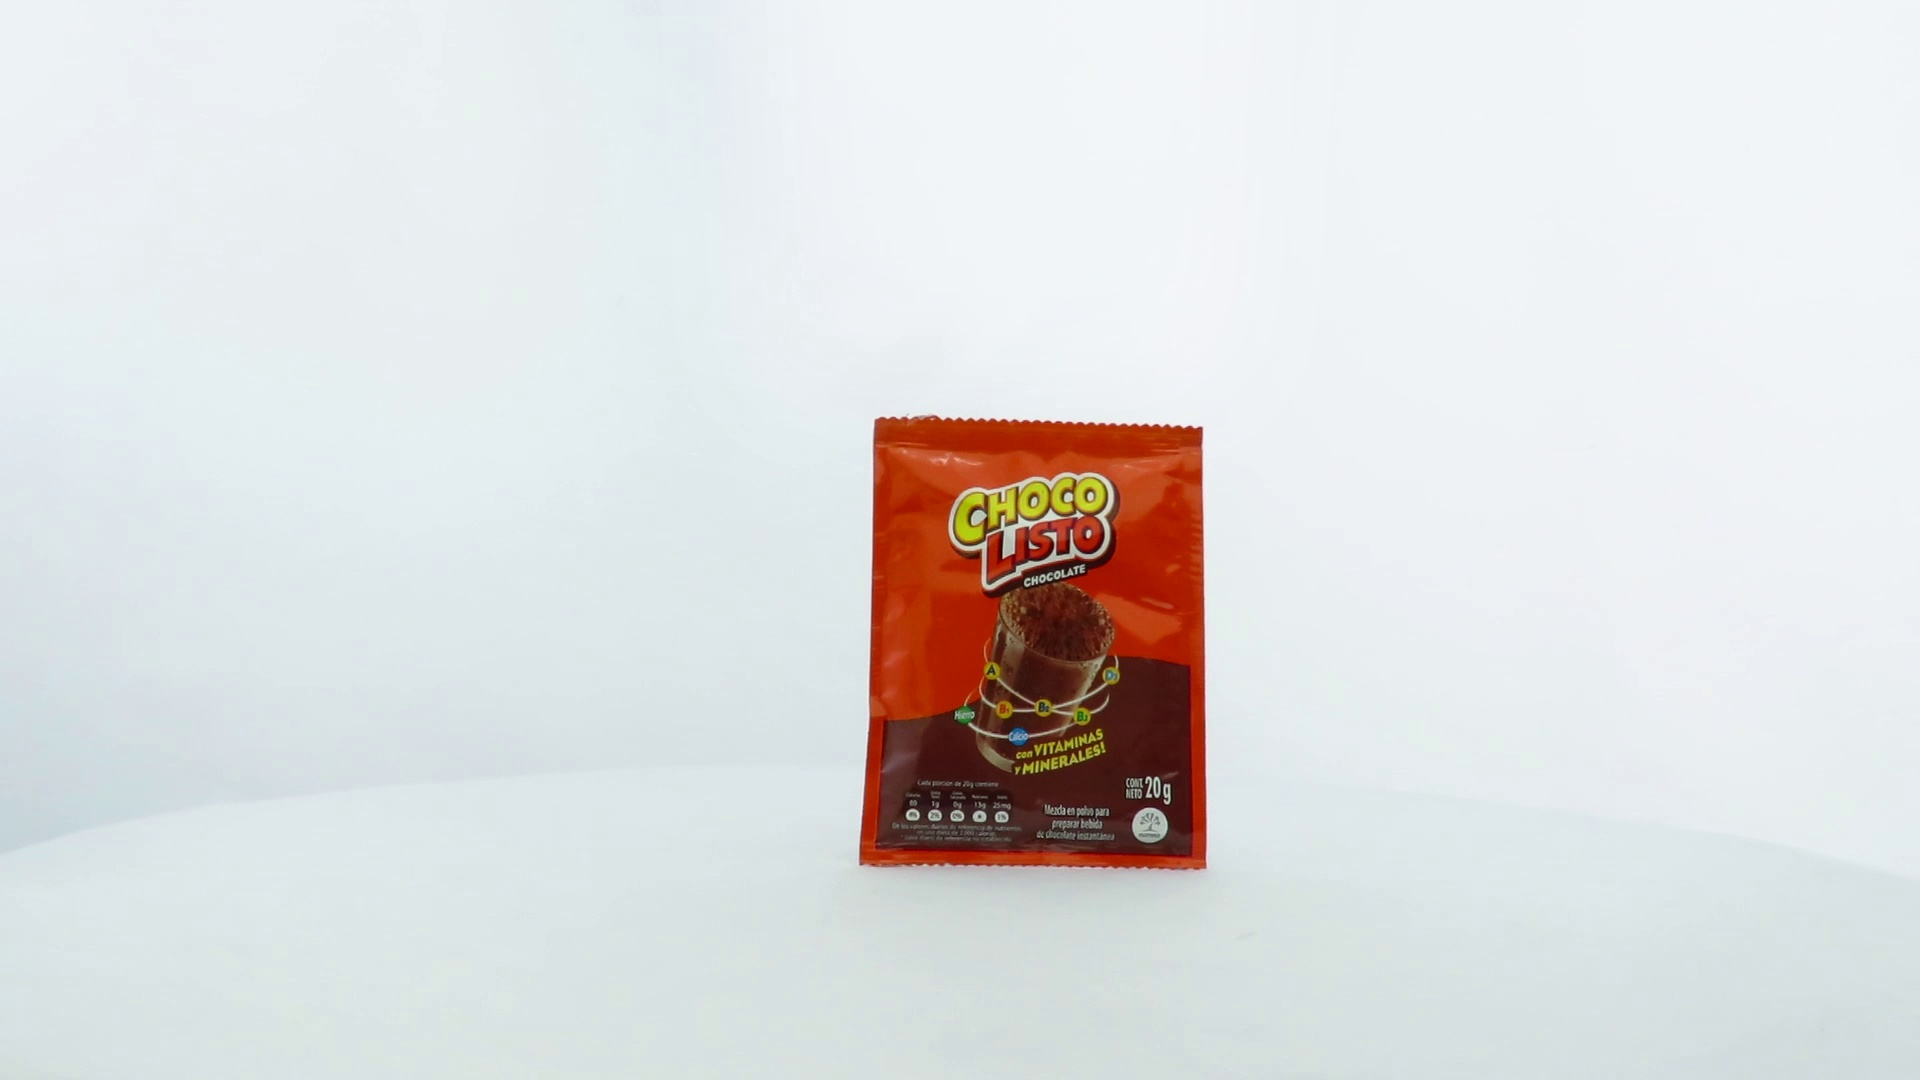COL0170103SOB02000: (855, 410, 1213, 877)
